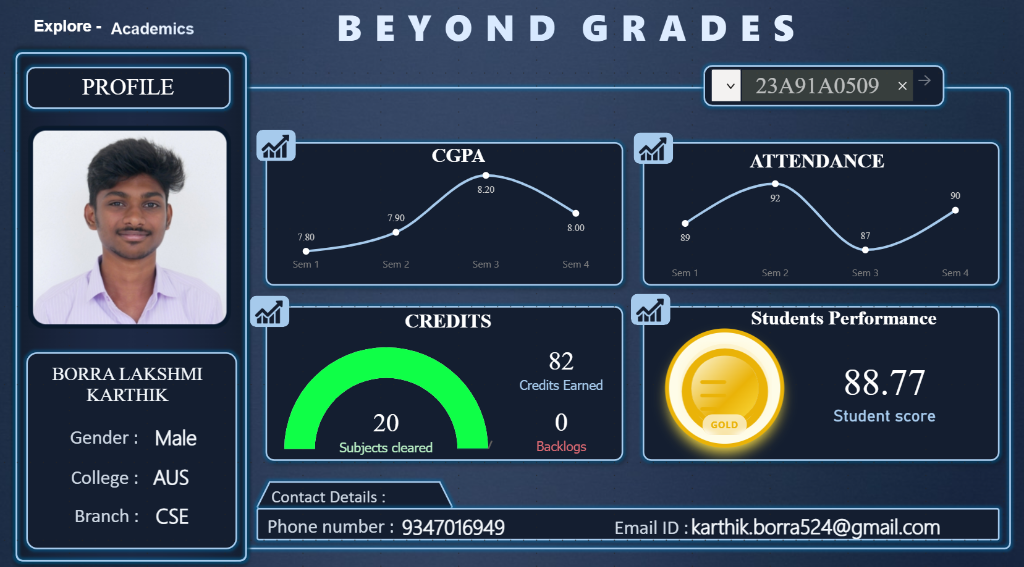

This screenshot's page, from the dashboard's own definition file:
{"tool":"powerbi","page":{"name":"Main page","canvas":[1280,720],"ordinal":0},"visuals":[{"type":"group","id":"g1","title":"permenant section ","box":[18.9,0,1156.4,670.6],"z":0},{"type":"htmlContent443BE3AD55E043BF878BED274D3A6855","title":"sub title ","fields":{"content":["table.AnimatedSubtitleHTML"]},"box":[36,0,291.2,83.2],"z":0,"group":"g1"},{"type":"htmlContent443BE3AD55E043BF878BED274D3A6855","title":"pfp","fields":{"content":["table.L_Card_HTML_Measure"]},"box":[40,156.8,260.8,273.6],"z":0,"group":"g6"},{"type":"group","id":"g2","title":"logo badge","box":[324.7,166.5,51.2,38.6],"z":0,"group":"g7"},{"type":"shape","box":[327,166.5,48.6,38.6],"z":0,"group":"g2"},{"type":"shape","box":[791.1,169.6,48.6,38.6],"z":0,"group":"g12"},{"type":"shape","title":"Attendance title","box":[933.9,185.9,182.4,38.4],"z":0,"group":"g11"},{"type":"shape","box":[789.1,369.4,48.6,38.6],"z":0,"group":"g16"},{"type":"group","id":"g3","title":"logo","box":[317,371.2,51.2,38.6],"z":0,"group":"g9"},{"type":"shape","box":[319.3,371.2,48.6,38.6],"z":0,"group":"g3"},{"type":"cardVisual","title":"Gender","fields":{"Data":["table.Student_gender"]},"box":[146.5,502,162.2,83],"z":0,"group":"g15"},{"type":"cardVisual","title":"college name","fields":{"Data":["table.Student_college"]},"box":[137,550.9,169.2,100.8],"z":0,"group":"g10"},{"type":"shape","title":"contact ","box":[345.1,591.6,221.8,54.5],"z":0,"group":"g4"},{"type":"cardVisual","title":"branch name","fields":{"Data":["table.Student_branch"]},"box":[133.2,599,179,71.4],"z":0,"group":"g13"},{"type":"cardVisual","title":"phone number","fields":{"Data":["table.Student_email"]},"box":[839.2,611.3,424.2,102.5],"z":0,"group":"g8"},{"type":"cardVisual","title":"phone number","fields":{"Data":["table.Student_phonenum"]},"box":[482,612.6,253,102.5],"z":0,"group":"g5"},{"type":"htmlContent443BE3AD55E043BF878BED274D3A6855","title":"Title","fields":{"content":["table.LDashboardTitleHTML"]},"box":[334.3,0,761.6,131.2],"z":1000,"group":"g1"},{"type":"shape","title":"profile ","box":[54.3,93.9,227.5,39.7],"z":1000,"group":"g6"},{"type":"image","box":[324.7,169.5,51.2,33.6],"z":1000,"group":"g2"},{"type":"image","box":[788.8,172.6,51.2,33.6],"z":1000,"group":"g12"},{"type":"lineChart","title":"sem line chart","fields":{"Category":["sem wise attendance data.Attribute"],"Y":["Sum(sem wise attendance data.Value)"]},"box":[805.6,215,432,146.1],"z":1000,"group":"g11"},{"type":"image","box":[786.8,372.4,51.2,33.6],"z":1000,"group":"g16"},{"type":"image","box":[317,374.2,51.2,33.6],"z":1000,"group":"g3"},{"type":"shape","title":"Credits title","box":[510.4,374.4,132.8,56],"z":1000,"group":"g9"},{"type":"shape","box":[35.4,517.5,207.3,56.4],"z":1000,"group":"g15"},{"type":"shape","box":[28.5,567.5,222.4,54.5],"z":1000,"group":"g10"},{"type":"group","id":"g4","title":"contact section","box":[307.5,591.6,955.9,123.5],"z":1000},{"type":"group","id":"g5","title":"phone number","box":[307.5,612.6,427.5,102.5],"z":1000,"group":"g4"},{"type":"shape","box":[18.9,613.7,245.4,56.9],"z":1000,"group":"g13"},{"type":"shape","title":"phone shape","box":[307.5,629.1,221.8,54.5],"z":1000,"group":"g5"},{"type":"shape","box":[703.2,629.1,221.8,54.5],"z":1000,"group":"g8"},{"type":"group","id":"g6","title":"profile section","box":[18.9,93.9,293.3,576.7],"z":2000,"group":"g1"},{"type":"group","id":"g7","title":"Cgpa card","box":[323.3,165.4,507.3,202.2],"z":2000},{"type":"lineChart","title":"sem line chart","fields":{"Category":["sem wise cgpa data.sem name"],"Y":["Sum(sem wise data.Value)"]},"box":[337.9,204.8,431.4,145.9],"z":2000,"group":"g7"},{"type":"shape","title":"Credits title","box":[914.1,369.4,273.4,60.5],"z":2000,"group":"g14"},{"type":"cardVisual","title":"Student name","fields":{"Data":["table.Student_Name"]},"box":[29.4,430,276.3,160.9],"z":2000,"group":"g6"},{"type":"cardVisual","title":"total backlogs","fields":{"Data":["table.Student_backlogs"]},"box":[605.7,461.4,194.3,152.9],"z":2000,"group":"g9"},{"type":"group","id":"g8","title":"email","box":[703.2,611.3,560.3,102.5],"z":2000,"group":"g4"},{"type":"textSlicer","fields":{"Values":["roll numbers.Roll number"]},"box":[858.1,83,317.2,48],"z":3000,"group":"g1"},{"type":"group","id":"g9","title":"credits card","box":[317,371.2,483,244.5],"z":3000},{"type":"cardVisual","title":"subjects cleared","fields":{"Data":["table.Student_subjectscleared"]},"box":[390,462.9,194.3,152.9],"z":3000,"group":"g9"},{"type":"group","id":"g10","title":"College","box":[28.5,550.9,277.8,100.8],"z":3000,"group":"g6"},{"type":"group","id":"g11","title":"Attendance card","box":[788,169,472.8,202.2],"z":4000},{"type":"group","id":"g12","title":"logo badge","box":[788.8,169.6,51.2,38.4],"z":4000,"group":"g11"},{"type":"shape","title":"cgpa title","box":[542.5,170,82.5,56.2],"z":4000,"group":"g7"},{"type":"cardVisual","title":"Total credits earned ","fields":{"Data":["table.Student_credits"]},"box":[605.7,387.1,194.3,150],"z":4000,"group":"g9"},{"type":"group","id":"g13","title":"Branch","box":[18.9,599,293.3,71.6],"z":4000,"group":"g6"},{"type":"group","id":"g14","title":"Student performance","box":[771.5,369.4,453.5,212.2],"z":5000},{"type":"cardVisual","title":"Student score ","fields":{"Data":["table.Student_performance_score"]},"box":[978.8,421.6,246.3,141.9],"z":5000,"group":"g14"},{"type":"gauge","title":"Cleared subjects","fields":{"MaxValue":["table.Total Subjects"],"TargetValue":["table.Student_subjectscleared"],"Y":["table.Student_subjectscleared"]},"box":[327.7,429.9,319.3,135.7],"z":5000,"group":"g9"},{"type":"group","id":"g15","title":"gender","box":[35.4,502,273.2,83],"z":5000,"group":"g6"},{"type":"group","id":"g16","title":"logo badge","box":[786.8,369.4,52.2,39.7],"z":6000,"group":"g14"},{"type":"htmlContent443BE3AD55E043BF878BED274D3A6855","fields":{"content":["table.Student Score Medal HTML"]},"box":[771.5,400,264.6,181.6],"z":7000,"group":"g14"}]}

Visuals, with their boxes in screenshot pixels (x1, y1, x2, y2), scaled from the page's 1280x720 canvas onto the 1024x567 screenshot:
"permenant section " group: {"x1": 15, "y1": 0, "x2": 940, "y2": 528}
"sub title " htmlContent443BE3AD55E043BF878BED274D3A6855: {"x1": 29, "y1": 0, "x2": 262, "y2": 66}
"pfp" htmlContent443BE3AD55E043BF878BED274D3A6855: {"x1": 32, "y1": 123, "x2": 241, "y2": 339}
"logo badge" group: {"x1": 260, "y1": 131, "x2": 301, "y2": 162}
shape: {"x1": 262, "y1": 131, "x2": 300, "y2": 162}
shape: {"x1": 633, "y1": 134, "x2": 672, "y2": 164}
"Attendance title" shape: {"x1": 747, "y1": 146, "x2": 893, "y2": 177}
shape: {"x1": 631, "y1": 291, "x2": 670, "y2": 321}
"logo" group: {"x1": 254, "y1": 292, "x2": 295, "y2": 323}
shape: {"x1": 255, "y1": 292, "x2": 294, "y2": 323}
"Gender" cardVisual: {"x1": 117, "y1": 395, "x2": 247, "y2": 461}
"college name" cardVisual: {"x1": 110, "y1": 434, "x2": 245, "y2": 513}
"contact " shape: {"x1": 276, "y1": 466, "x2": 454, "y2": 509}
"branch name" cardVisual: {"x1": 107, "y1": 472, "x2": 250, "y2": 528}
"phone number" cardVisual: {"x1": 671, "y1": 481, "x2": 1011, "y2": 562}
"phone number" cardVisual: {"x1": 386, "y1": 482, "x2": 588, "y2": 563}
"Title" htmlContent443BE3AD55E043BF878BED274D3A6855: {"x1": 267, "y1": 0, "x2": 877, "y2": 103}
"profile " shape: {"x1": 43, "y1": 74, "x2": 225, "y2": 105}
image: {"x1": 260, "y1": 133, "x2": 301, "y2": 160}
image: {"x1": 631, "y1": 136, "x2": 672, "y2": 162}
"sem line chart" lineChart: {"x1": 644, "y1": 169, "x2": 990, "y2": 284}
image: {"x1": 629, "y1": 293, "x2": 670, "y2": 320}
image: {"x1": 254, "y1": 295, "x2": 295, "y2": 321}
"Credits title" shape: {"x1": 408, "y1": 295, "x2": 515, "y2": 339}
shape: {"x1": 28, "y1": 408, "x2": 194, "y2": 452}
shape: {"x1": 23, "y1": 447, "x2": 201, "y2": 490}
"contact section" group: {"x1": 246, "y1": 466, "x2": 1011, "y2": 563}
"phone number" group: {"x1": 246, "y1": 482, "x2": 588, "y2": 563}
shape: {"x1": 15, "y1": 483, "x2": 211, "y2": 528}
"phone shape" shape: {"x1": 246, "y1": 495, "x2": 423, "y2": 538}
shape: {"x1": 563, "y1": 495, "x2": 740, "y2": 538}
"profile section" group: {"x1": 15, "y1": 74, "x2": 250, "y2": 528}
"Cgpa card" group: {"x1": 259, "y1": 130, "x2": 664, "y2": 289}
"sem line chart" lineChart: {"x1": 270, "y1": 161, "x2": 615, "y2": 276}
"Credits title" shape: {"x1": 731, "y1": 291, "x2": 950, "y2": 339}
"Student name" cardVisual: {"x1": 24, "y1": 339, "x2": 245, "y2": 465}
"total backlogs" cardVisual: {"x1": 485, "y1": 363, "x2": 640, "y2": 484}
"email" group: {"x1": 563, "y1": 481, "x2": 1011, "y2": 562}
textSlicer - roll numbers.Roll number: {"x1": 686, "y1": 65, "x2": 940, "y2": 103}
"credits card" group: {"x1": 254, "y1": 292, "x2": 640, "y2": 485}
"subjects cleared" cardVisual: {"x1": 312, "y1": 365, "x2": 467, "y2": 485}
"College" group: {"x1": 23, "y1": 434, "x2": 245, "y2": 513}
"Attendance card" group: {"x1": 630, "y1": 133, "x2": 1009, "y2": 292}
"logo badge" group: {"x1": 631, "y1": 134, "x2": 672, "y2": 164}
"cgpa title" shape: {"x1": 434, "y1": 134, "x2": 500, "y2": 178}
"Total credits earned " cardVisual: {"x1": 485, "y1": 305, "x2": 640, "y2": 423}
"Branch" group: {"x1": 15, "y1": 472, "x2": 250, "y2": 528}
"Student performance" group: {"x1": 617, "y1": 291, "x2": 980, "y2": 458}
"Student score " cardVisual: {"x1": 783, "y1": 332, "x2": 980, "y2": 444}
"Cleared subjects" gauge: {"x1": 262, "y1": 339, "x2": 518, "y2": 445}
"gender" group: {"x1": 28, "y1": 395, "x2": 247, "y2": 461}
"logo badge" group: {"x1": 629, "y1": 291, "x2": 671, "y2": 322}
htmlContent443BE3AD55E043BF878BED274D3A6855 - table.Student Score Medal HTML: {"x1": 617, "y1": 315, "x2": 829, "y2": 458}
